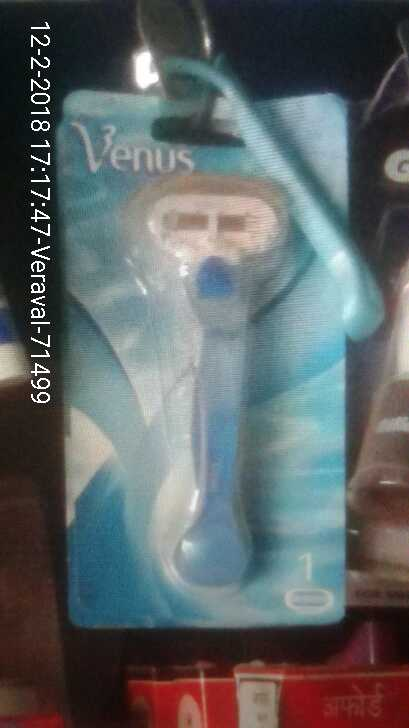venus: (66, 102, 353, 618)
